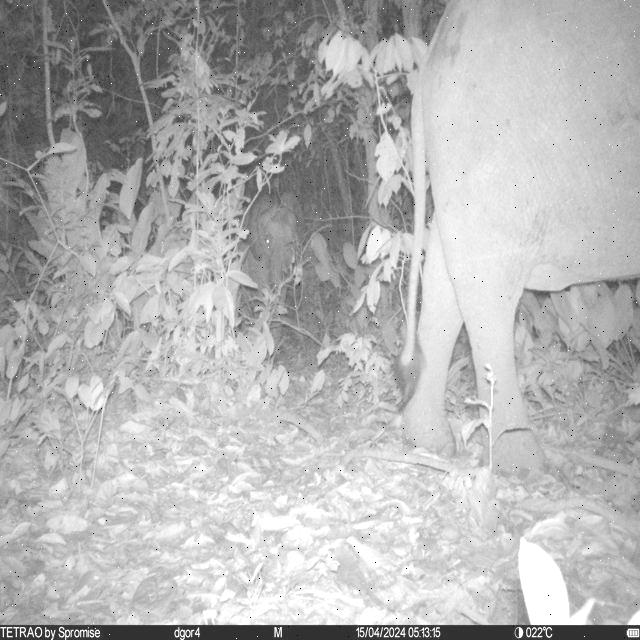ear: (246, 192, 272, 261), (280, 194, 306, 242)
elephant: (393, 1, 640, 473), (242, 192, 310, 333)
